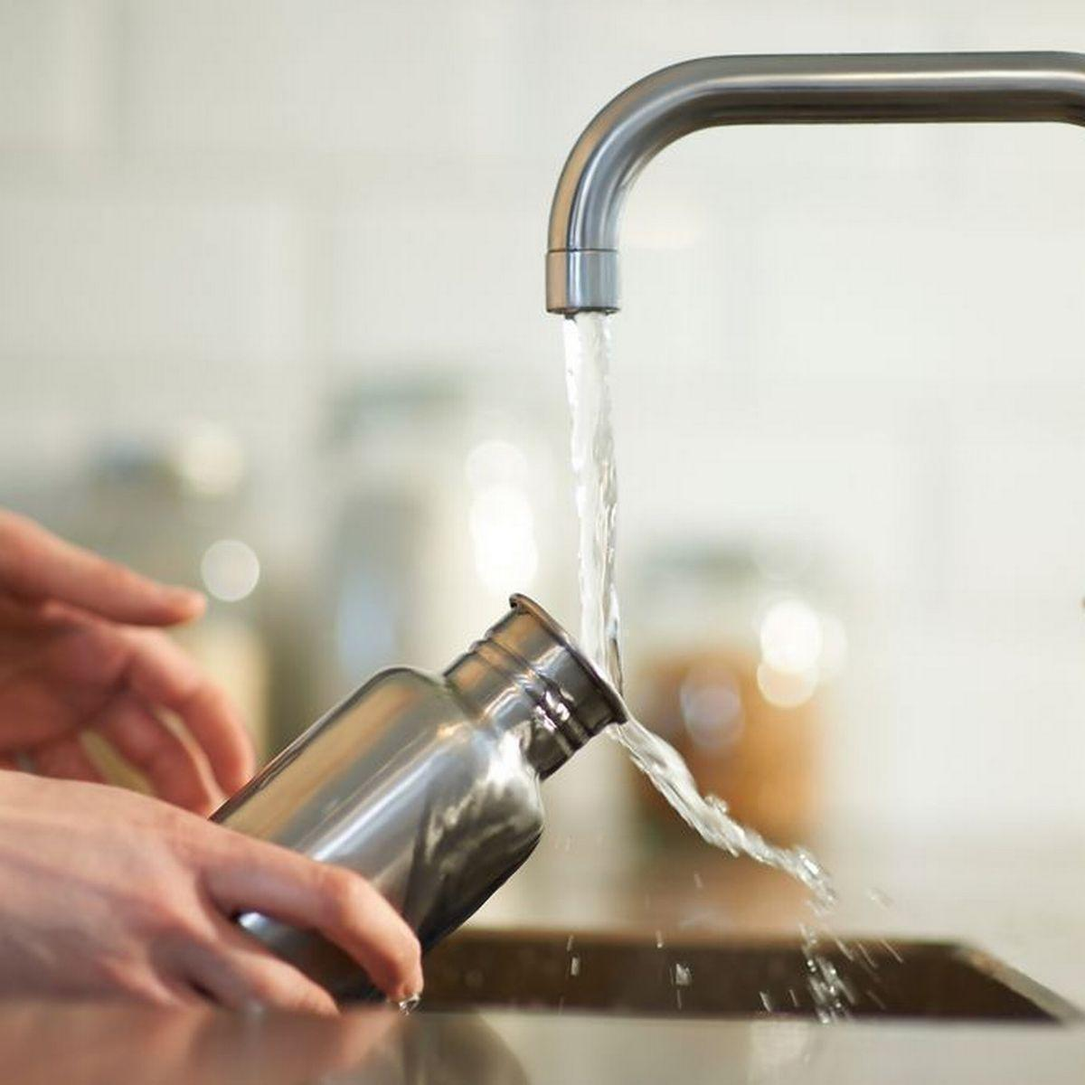gym bottle: (200, 588, 627, 969)
